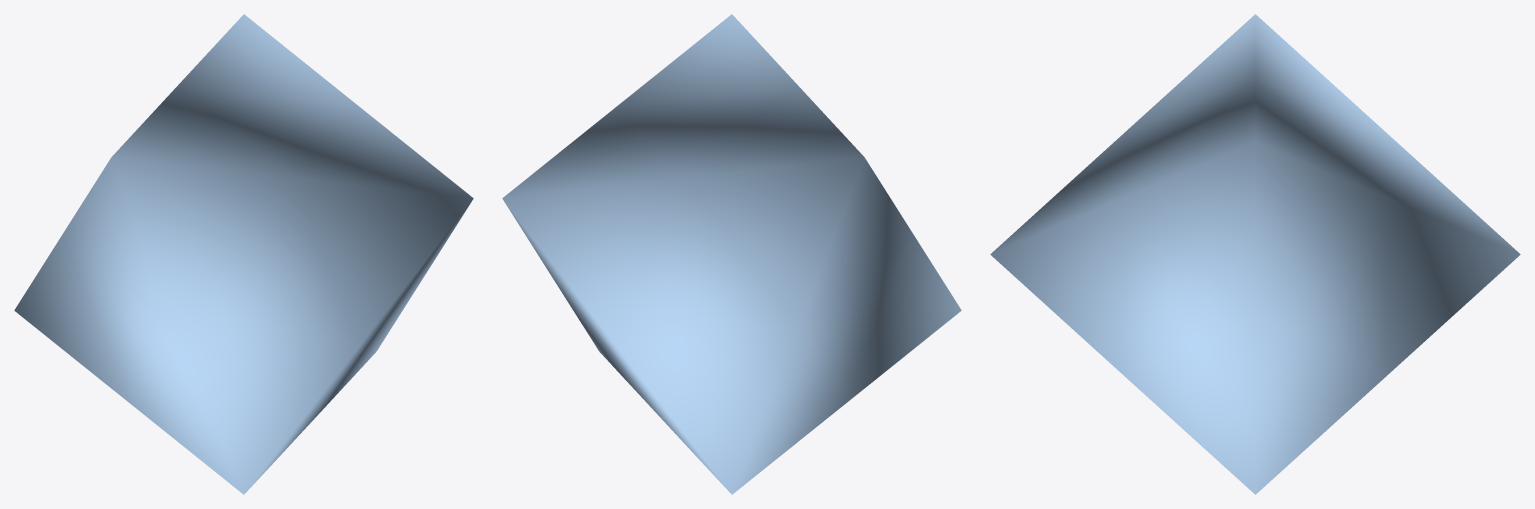
The model's file is code_crystal.glb.
3 renders of one model, left to right at view 1: azimuth 30°, elevation 25°; view 2: azimuth 150°, elevation 25°; view 3: azimuth 270°, elevation 25°, orthographic.
Visible parts, largest first — view 1: marguerite_code_crystal; view 2: marguerite_code_crystal; view 3: marguerite_code_crystal.
Part boxes in pixels (bbox=[...]): marguerite_code_crystal: bbox=[14, 14, 473, 494]; marguerite_code_crystal: bbox=[502, 14, 961, 494]; marguerite_code_crystal: bbox=[990, 14, 1520, 494].
Bounding box in the file's own units: 1.6 × 1.6 × 1.6.
